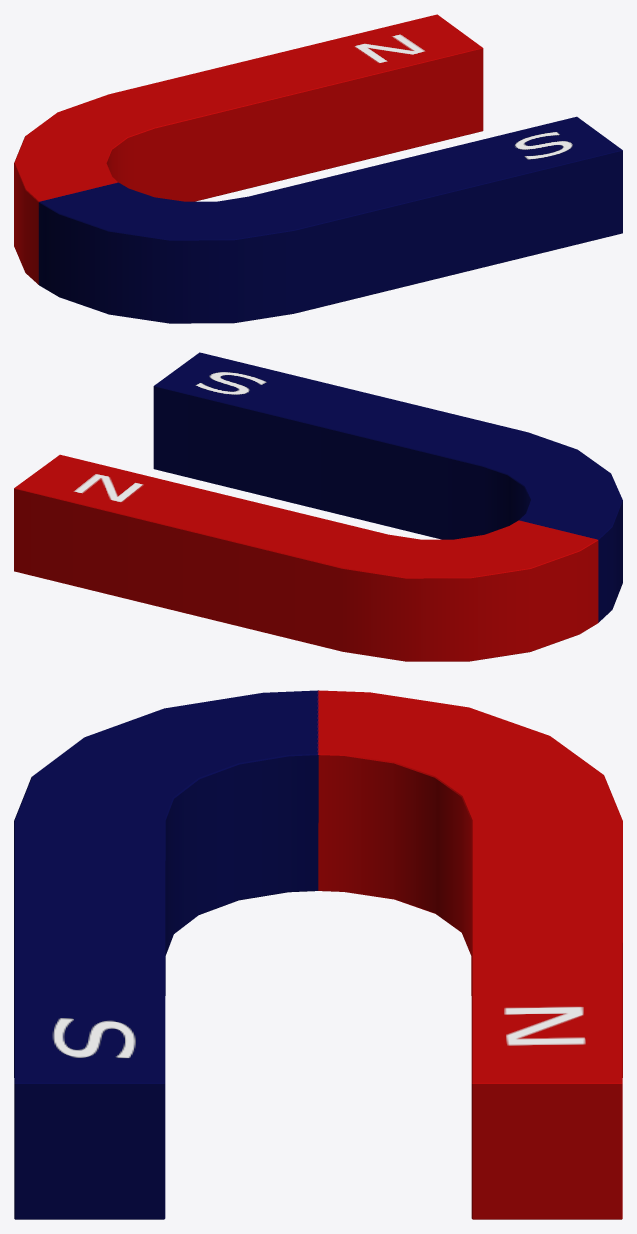
The model's file is MAGNET_TT.fbx.
The picture shows the model from 3 angles, top to bottom: view 1: azimuth 30°, elevation 25°; view 2: azimuth 150°, elevation 25°; view 3: azimuth 270°, elevation 25°; orthographic projection. The views are drawn at different scales.
Visible parts, largest first — view 1: Cube; view 2: Cube; view 3: Cube.
Boxes of the visible parts, x1,y1,x2,y2 form: Cube: (14, 14, 622, 323); Cube: (14, 352, 622, 661); Cube: (14, 690, 622, 1219).
Bounding box in the file's own units: 1219 × 199 × 799.
